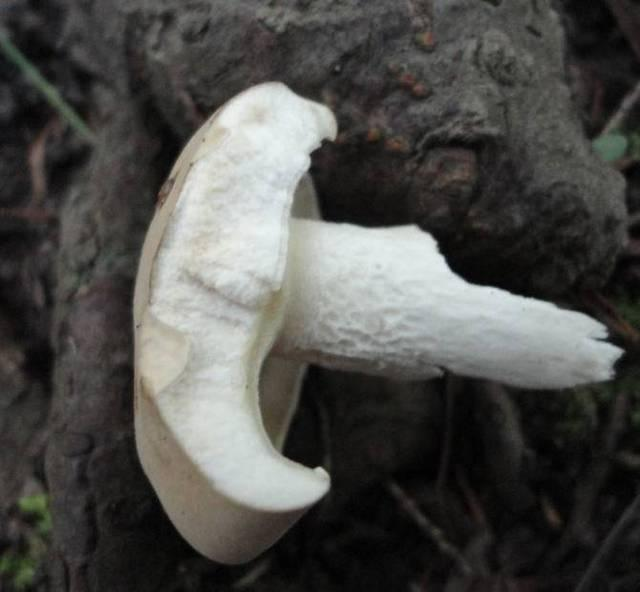Edible Mushroom: (129, 79, 625, 565)
